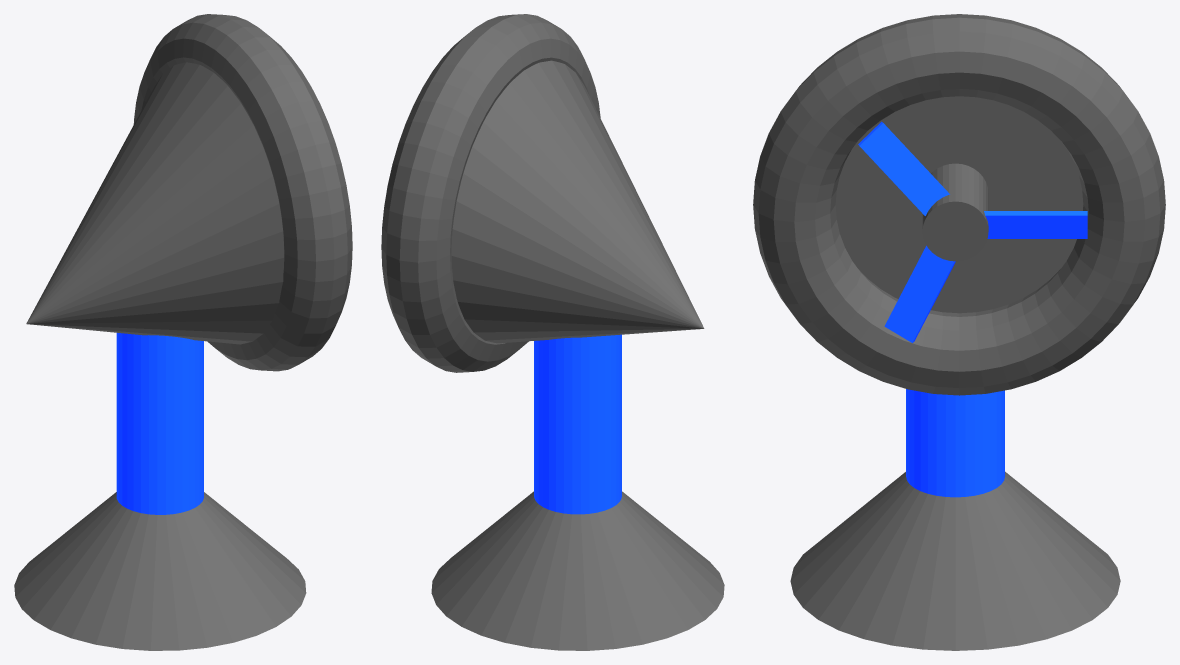
The model's file is fan.fbx.
3 views of the same model, side by side, from view 1: azimuth 30°, elevation 25°; view 2: azimuth 150°, elevation 25°; view 3: azimuth 270°, elevation 25° (orthographic). The views are drawn at different scales.
Parts seen in each view (by area): view 1: Cone.001, Cone, Torus, Cylinder; view 2: Cone.001, Cone, Torus, Cylinder; view 3: Torus, Cone, Cone.001, Cylinder, Cylinder.001, Cube.001, Cube.002, Cube.
Boxes of the visible parts, box(x1,y1,x2,y2) form: Cone.001: box(26, 62, 284, 344); Cone: box(14, 492, 306, 650); Torus: box(133, 14, 352, 371); Cylinder: box(116, 333, 203, 514); Cone.001: box(451, 60, 704, 343); Cone: box(431, 491, 724, 650); Torus: box(381, 14, 600, 372); Cylinder: box(534, 334, 621, 514); Torus: box(753, 14, 1165, 395); Cone: box(790, 471, 1120, 650); Cone.001: box(835, 96, 1083, 313); Cylinder: box(906, 389, 1004, 497); Cylinder.001: box(922, 163, 988, 261); Cube.001: box(858, 121, 949, 215); Cube.002: box(884, 245, 955, 342); Cube: box(984, 211, 1087, 238).
Size of the model in its own units: 203 by 408 by 250.
